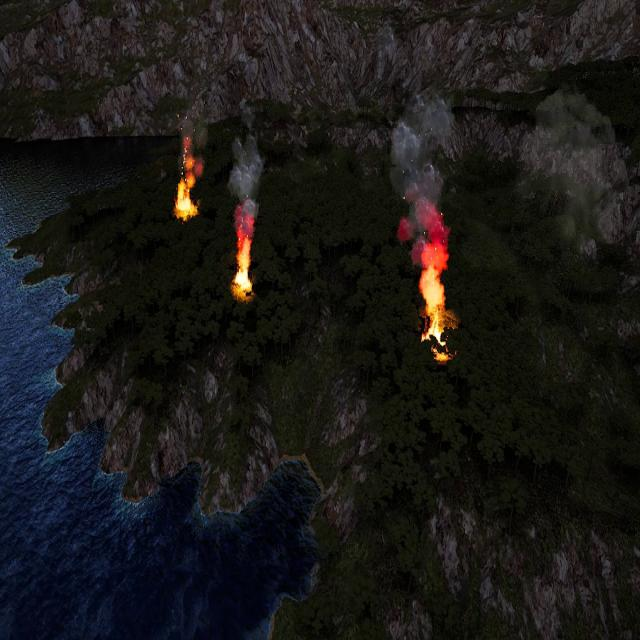fire: (406, 210, 457, 364), (233, 237, 255, 299), (175, 185, 197, 218)
smoke: (392, 96, 456, 341), (226, 109, 262, 235)
